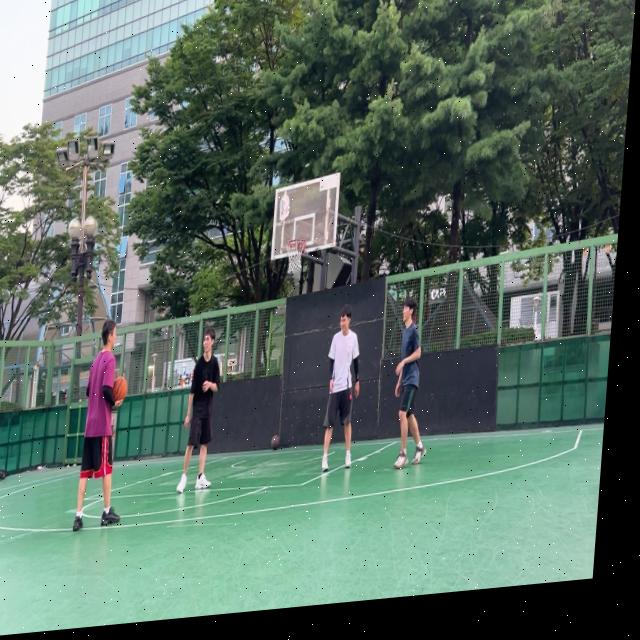basketball: (110, 374, 129, 405), (270, 433, 281, 451)
hoop: (284, 238, 306, 276)
